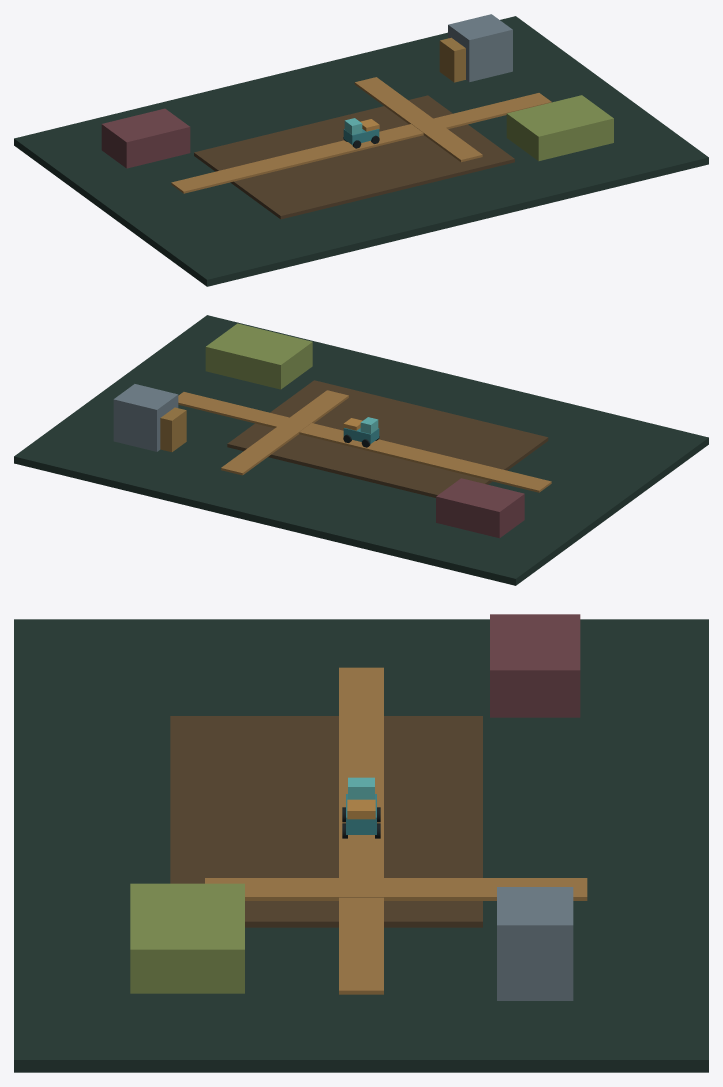
File: north-ridge-mine.gltf
The picture shows the model from 3 angles, top to bottom: view 1: azimuth 30°, elevation 25°; view 2: azimuth 150°, elevation 25°; view 3: azimuth 270°, elevation 25°; orthographic projection. The views are drawn at different scales.
Visible parts, largest first — view 1: TerrainBase, PitFloor, Stockpile, HaulRoadEast, Workshop, CrusherPlant, HaulRoadNorth, CrusherHopper; view 2: TerrainBase, PitFloor, Stockpile, HaulRoadEast, Workshop, CrusherPlant, HaulRoadNorth, CrusherHopper; view 3: TerrainBase, PitFloor, Stockpile, HaulRoadEast, Workshop, CrusherPlant, HaulRoadNorth.
Part boxes in pixels (x1=…): TerrainBase: x1=14, y1=16, x2=708, y2=286; PitFloor: x1=194, y1=95, x2=514, y2=219; Stockpile: x1=506, y1=95, x2=613, y2=161; HaulRoadEast: x1=171, y1=93, x2=551, y2=193; Workshop: x1=101, y1=108, x2=190, y2=168; CrusherPlant: x1=448, y1=14, x2=512, y2=81; HaulRoadNorth: x1=354, y1=77, x2=482, y2=162; CrusherHopper: x1=439, y1=37, x2=465, y2=82; TerrainBase: x1=14, y1=315, x2=708, y2=585; PitFloor: x1=227, y1=380, x2=548, y2=497; Stockpile: x1=205, y1=323, x2=312, y2=389; HaulRoadEast: x1=178, y1=392, x2=551, y2=492; Workshop: x1=436, y1=478, x2=524, y2=538; CrusherPlant: x1=113, y1=384, x2=178, y2=451; HaulRoadNorth: x1=221, y1=390, x2=348, y2=475; CrusherHopper: x1=160, y1=407, x2=186, y2=452; TerrainBase: x1=14, y1=619, x2=708, y2=1072; PitFloor: x1=170, y1=716, x2=482, y2=927; Stockpile: x1=130, y1=883, x2=244, y2=993; HaulRoadEast: x1=339, y1=667, x2=383, y2=994; Workshop: x1=490, y1=614, x2=580, y2=717; CrusherPlant: x1=497, y1=887, x2=573, y2=1000; HaulRoadNorth: x1=205, y1=878, x2=587, y2=900.
Size of the model in its own units: 30 by 2.95 by 20.
